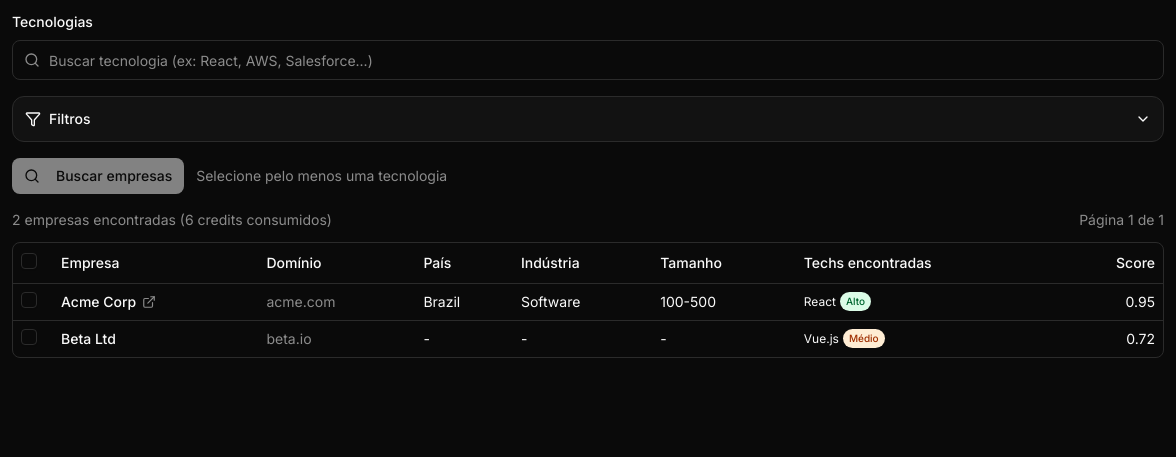
TechnographicPageContent › new search clears selection
Click the checkbox with test id "select-row-acme.com". click: (29, 300)
box: 21,292 -> 37,308
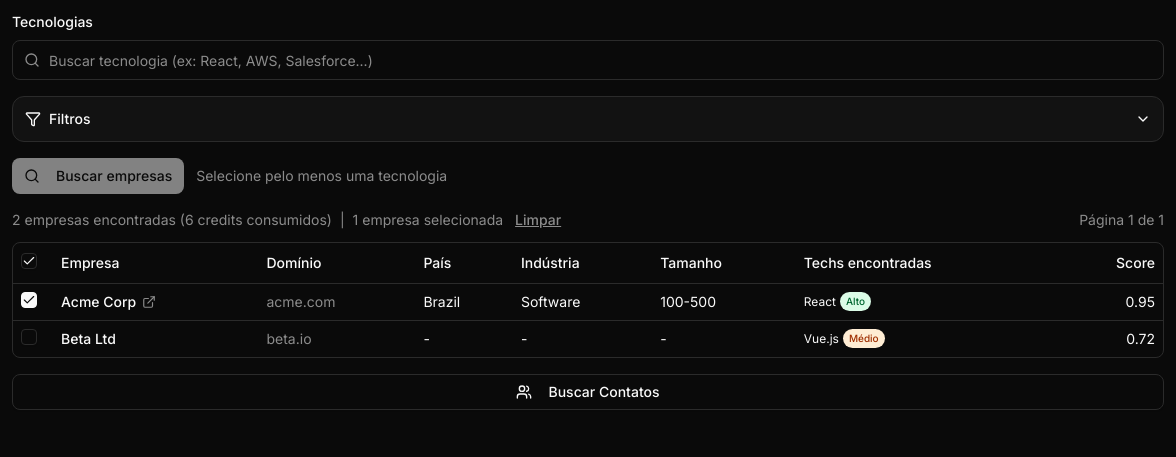
Check: the text "1 empresa selecionada" is shown, box 353,210 -> 503,230
Type "react" into the field with test id "technology-search-input". click: (588, 60)
box: 12,40 -> 1164,80
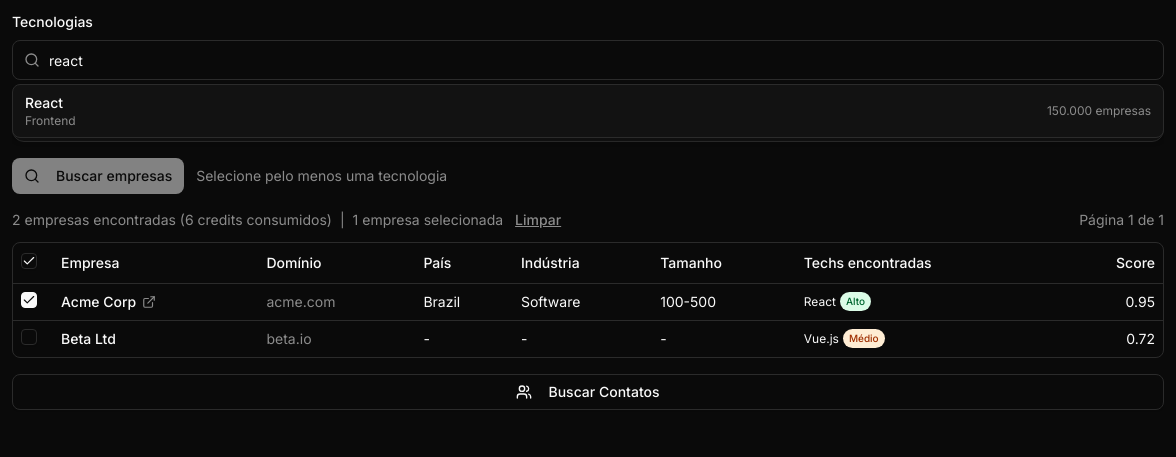
Focus the field with test id "technology-search-input". click: (588, 60)
box: 12,40 -> 1164,80
Check: the list with test id "technology-suggestions" is shown
Click the option "React Frontend 150.000 empresas". click: (44, 102)
box: 13,85 -> 1163,137
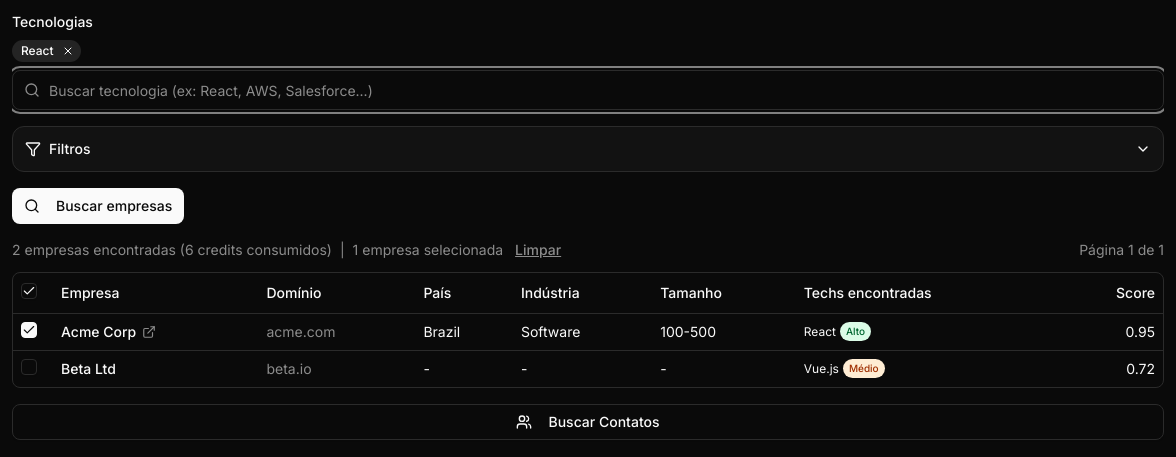
Click the button with test id "search-button". click: (98, 206)
box: 12,188 -> 184,224
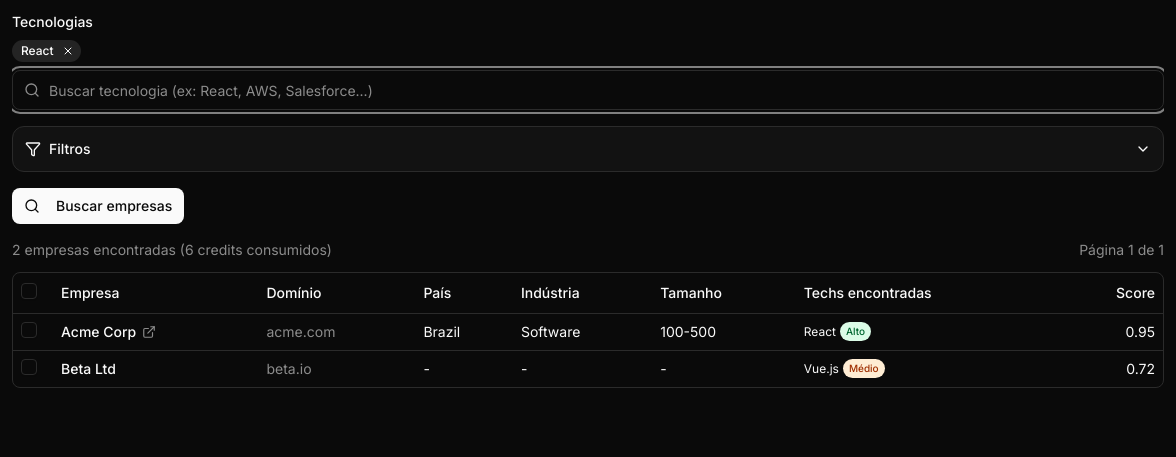
Check: the text with test id "selection-counter" is gone
